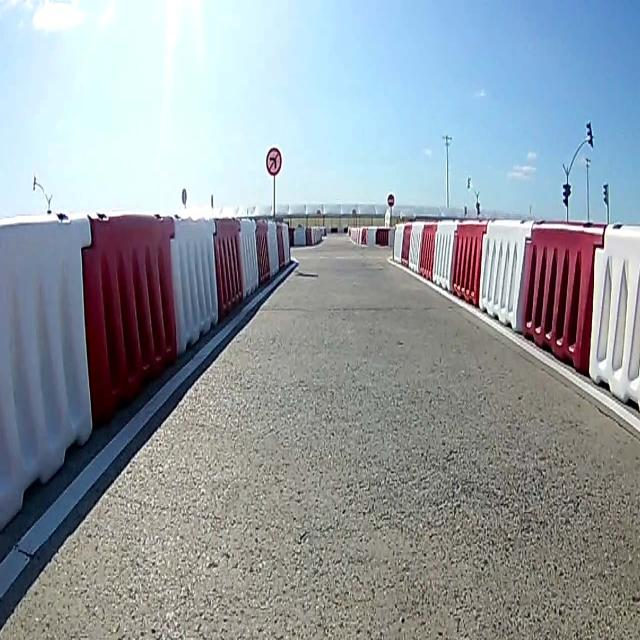girisyok: (387, 192, 395, 208)
soladonulmez: (266, 147, 282, 176)
